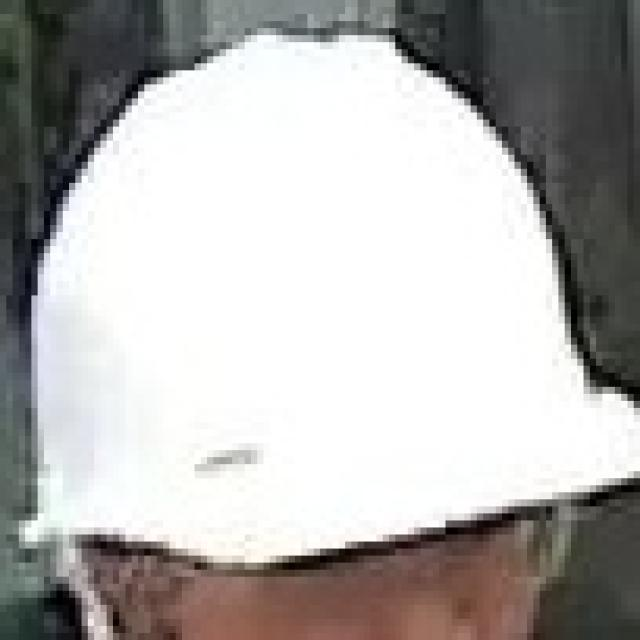safety_helmet: (26, 28, 638, 567)
